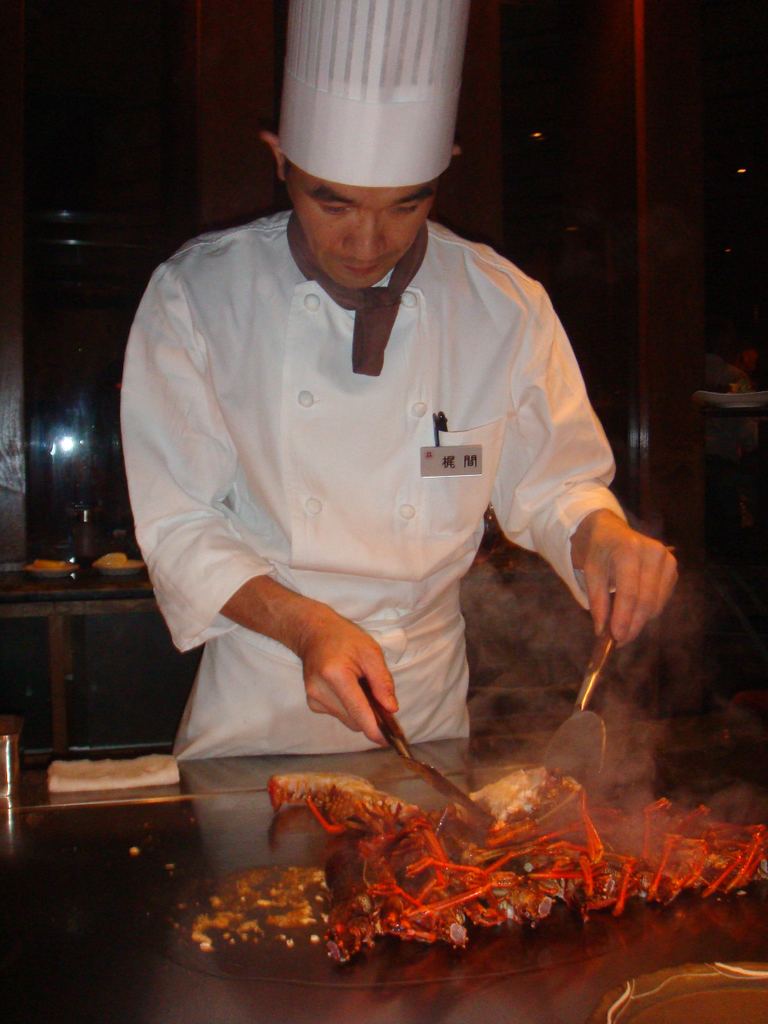Human_hand: (299, 606, 400, 748), (582, 508, 681, 648)
